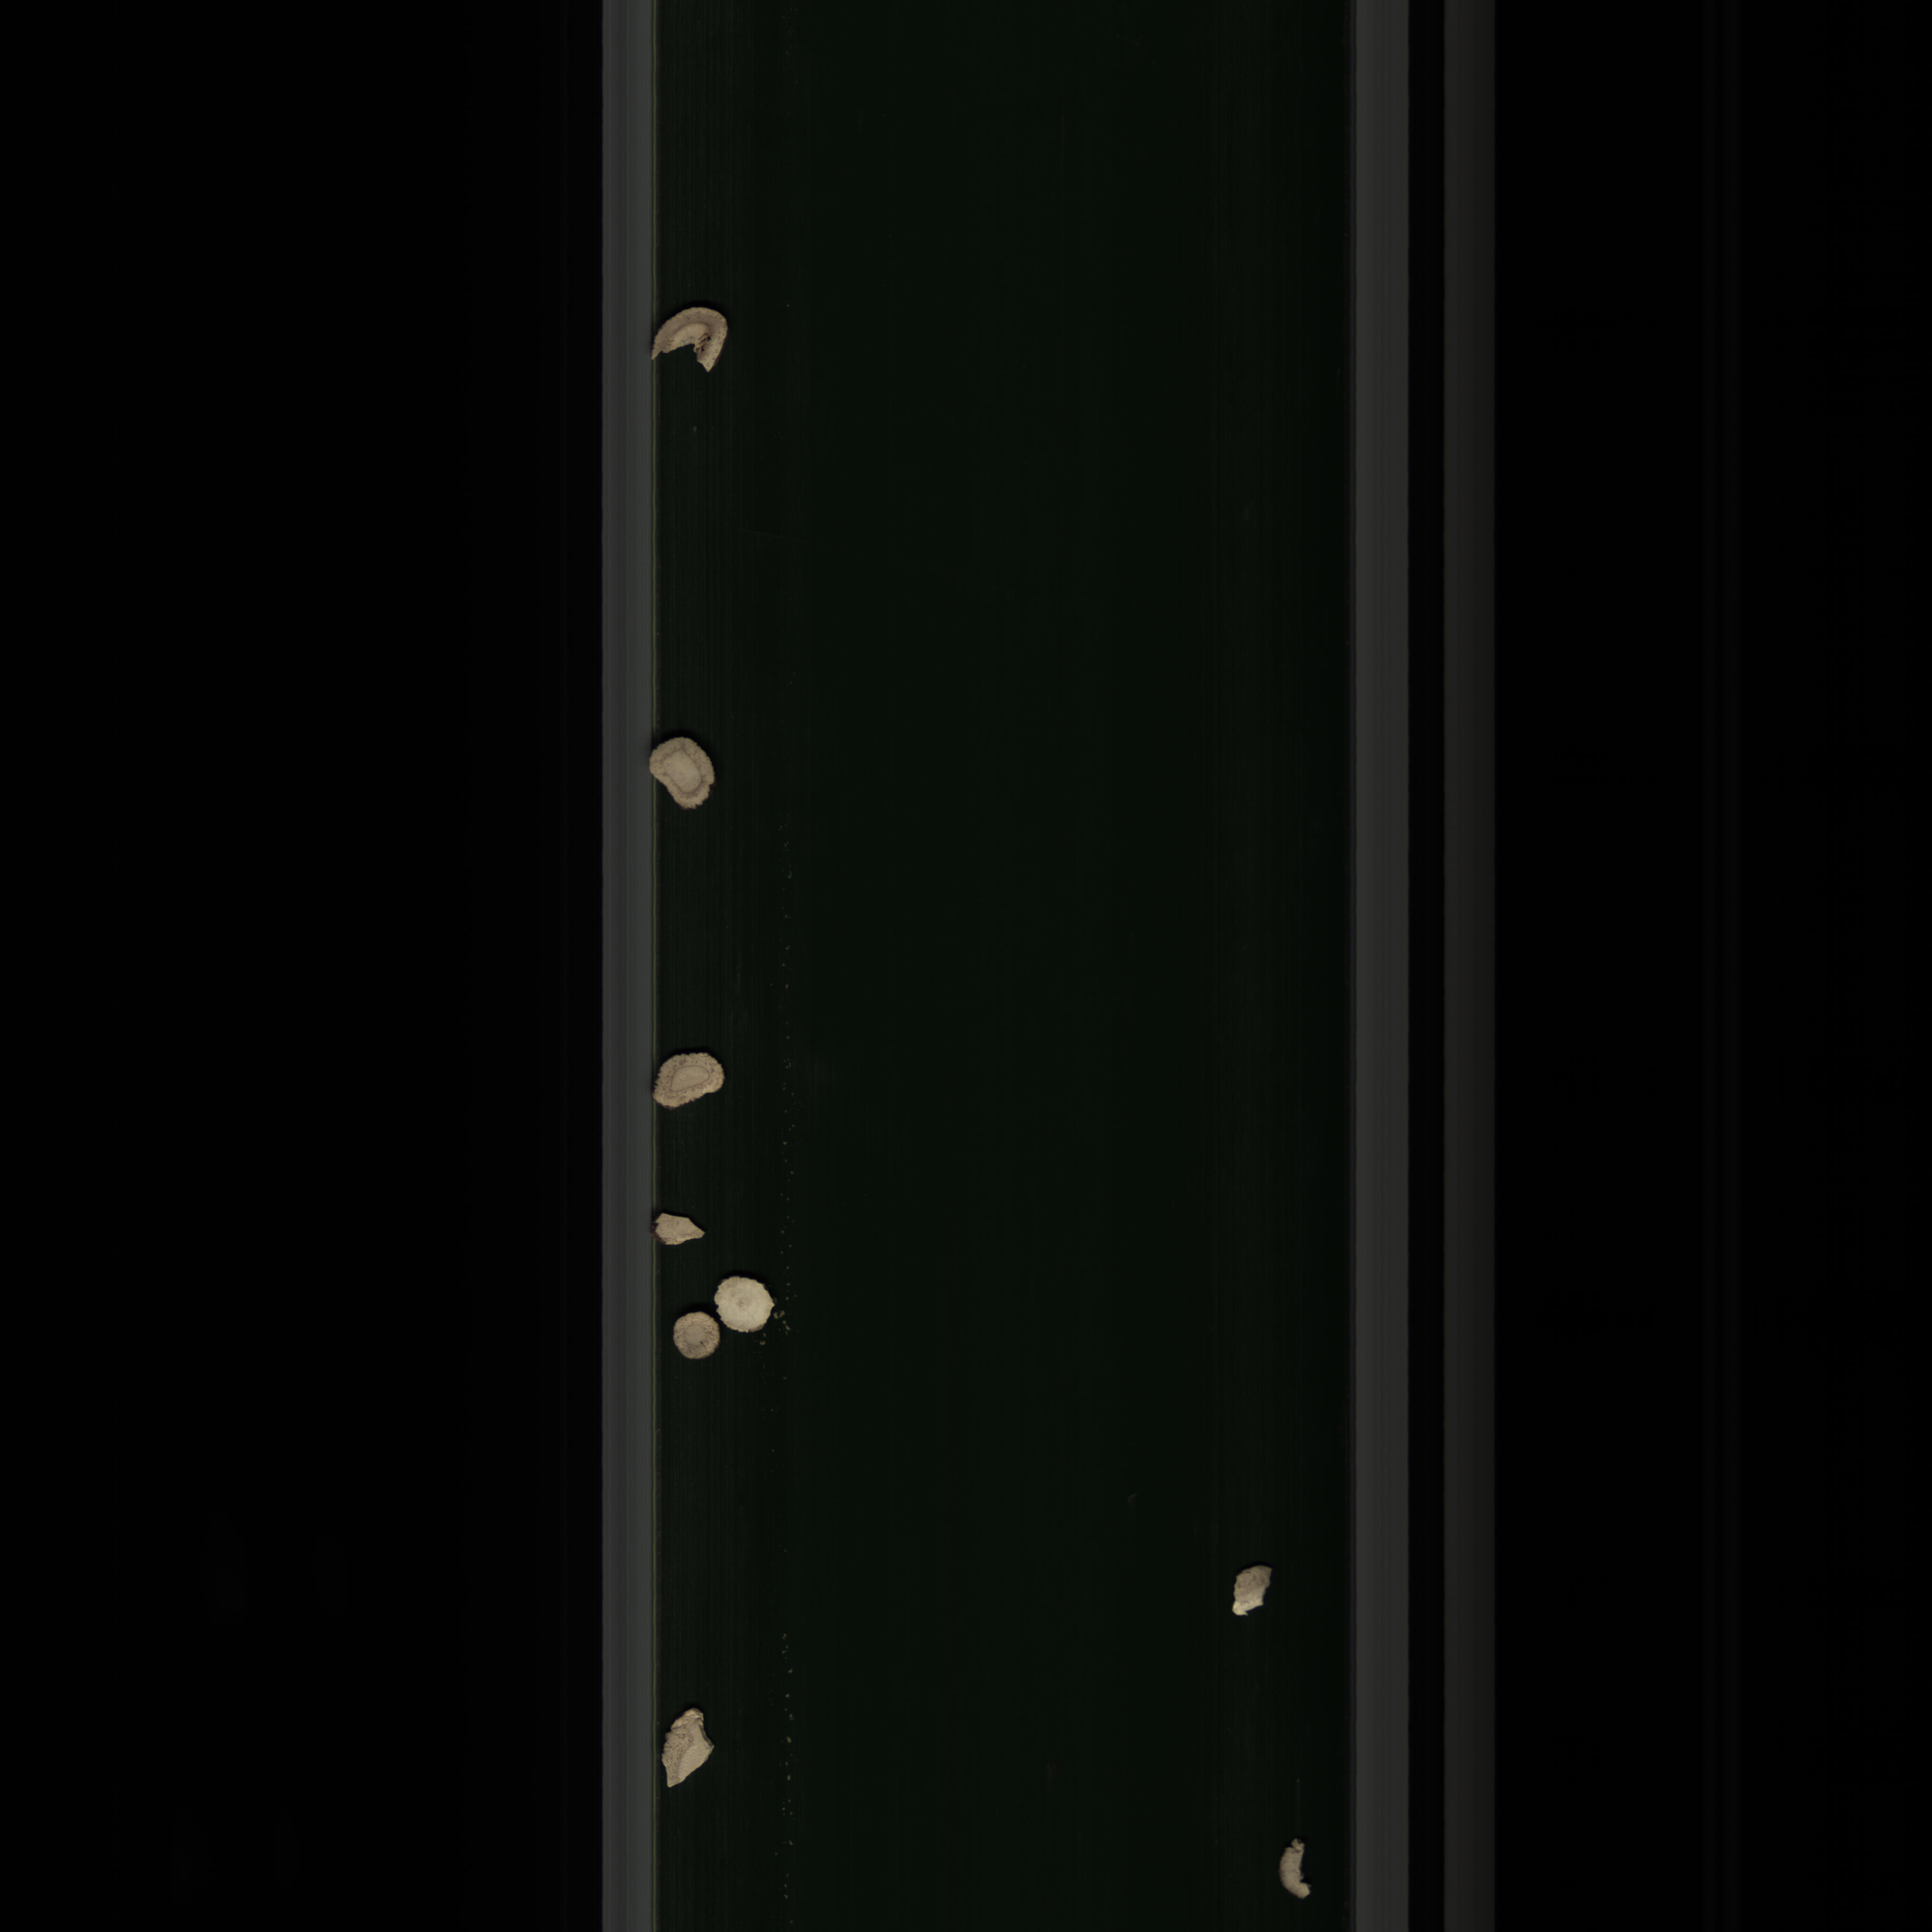debris: (658, 1707, 731, 1789), (1276, 1828, 1320, 1902), (1224, 1562, 1276, 1626), (651, 1207, 708, 1247)
moldy: (642, 303, 734, 382)
